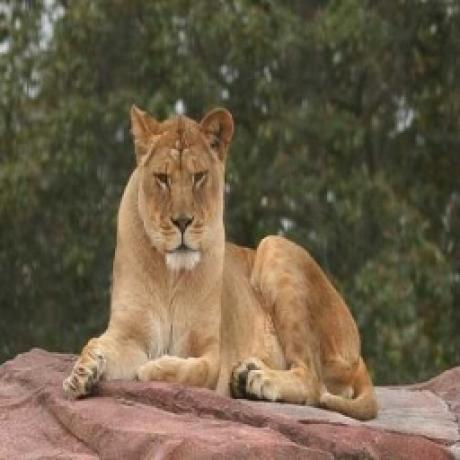Lion: (67, 103, 382, 422)
